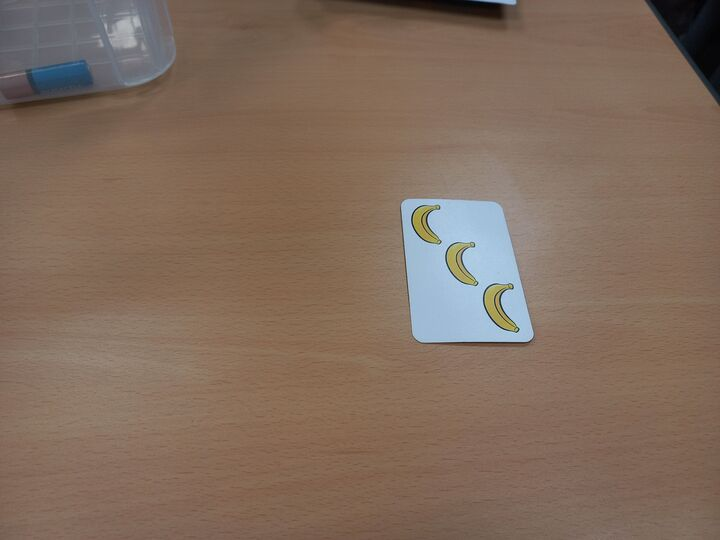banana3: (399, 196, 535, 346)
